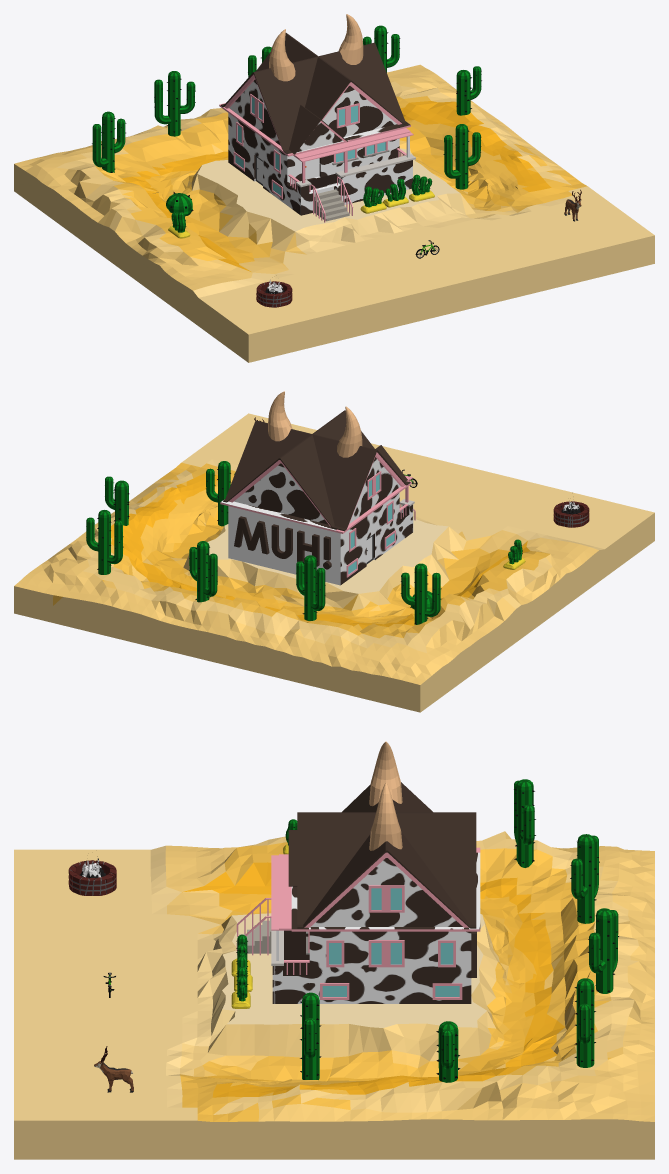
The picture shows the model from 3 angles, top to bottom: view 1: azimuth 30°, elevation 25°; view 2: azimuth 150°, elevation 25°; view 3: azimuth 270°, elevation 25°; orthographic projection. The views are drawn at different scales.
Parts seen in each view (by area): view 1: Cube.001, Cube.1242, Cylinder.037, Cylinder.044, Cylinder.045, Cylinder.038, OBJRANDOM_CAMPFIRE, Cylinder.042, Cylinder.041, Cylinder.039; view 2: Cube.001, Cube.1242, Cylinder.045, Cylinder.042, Cylinder.044, Cylinder.043, Cylinder.037, Cylinder.038, OBJRANDOM_CAMPFIRE; view 3: Cube.001, Cube.1242, Cylinder.044, Cylinder.043, Cylinder.045, Cylinder.042, Cylinder.037, OBJRANDOM_CAMPFIRE, Cylinder.038, Cylinder.041.
Part boxes in pixels (<box>): Cube.001: <box>14,64,654,362</box>; Cube.1242: <box>219,14,415,222</box>; Cylinder.037: <box>443,124,481,189</box>; Cylinder.044: <box>154,71,195,136</box>; Cylinder.045: <box>92,111,126,172</box>; Cylinder.038: <box>456,66,481,115</box>; OBJRANDOM_CAMPFIRE: <box>256,279,292,307</box>; Cylinder.042: <box>363,25,400,72</box>; Cylinder.041: <box>409,174,434,201</box>; Cylinder.039: <box>360,186,386,213</box>; Cube.001: <box>14,413,654,712</box>; Cube.1242: <box>220,391,415,585</box>; Cylinder.045: <box>400,563,441,624</box>; Cylinder.042: <box>86,510,123,574</box>; Cylinder.044: <box>296,555,325,620</box>; Cylinder.043: <box>189,541,217,602</box>; Cylinder.037: <box>206,461,235,526</box>; Cylinder.038: <box>105,476,129,525</box>; OBJRANDOM_CAMPFIRE: <box>553,500,589,527</box>; Cube.001: <box>14,831,654,1159</box>; Cube.1242: <box>236,741,480,1003</box>; Cylinder.044: <box>570,834,599,923</box>; Cylinder.043: <box>588,908,618,993</box>; Cylinder.045: <box>514,779,535,867</box>; Cylinder.042: <box>574,978,595,1067</box>; Cylinder.037: <box>300,992,321,1079</box>; OBJRANDOM_CAMPFIRE: <box>68,856,116,895</box>; Cylinder.038: <box>436,1021,460,1082</box>; Cylinder.041: <box>231,966,250,1008</box>.
Size of the model in its own units: 4002 by 1894 by 4001.
Materials: 34 (2 with a texture image).
